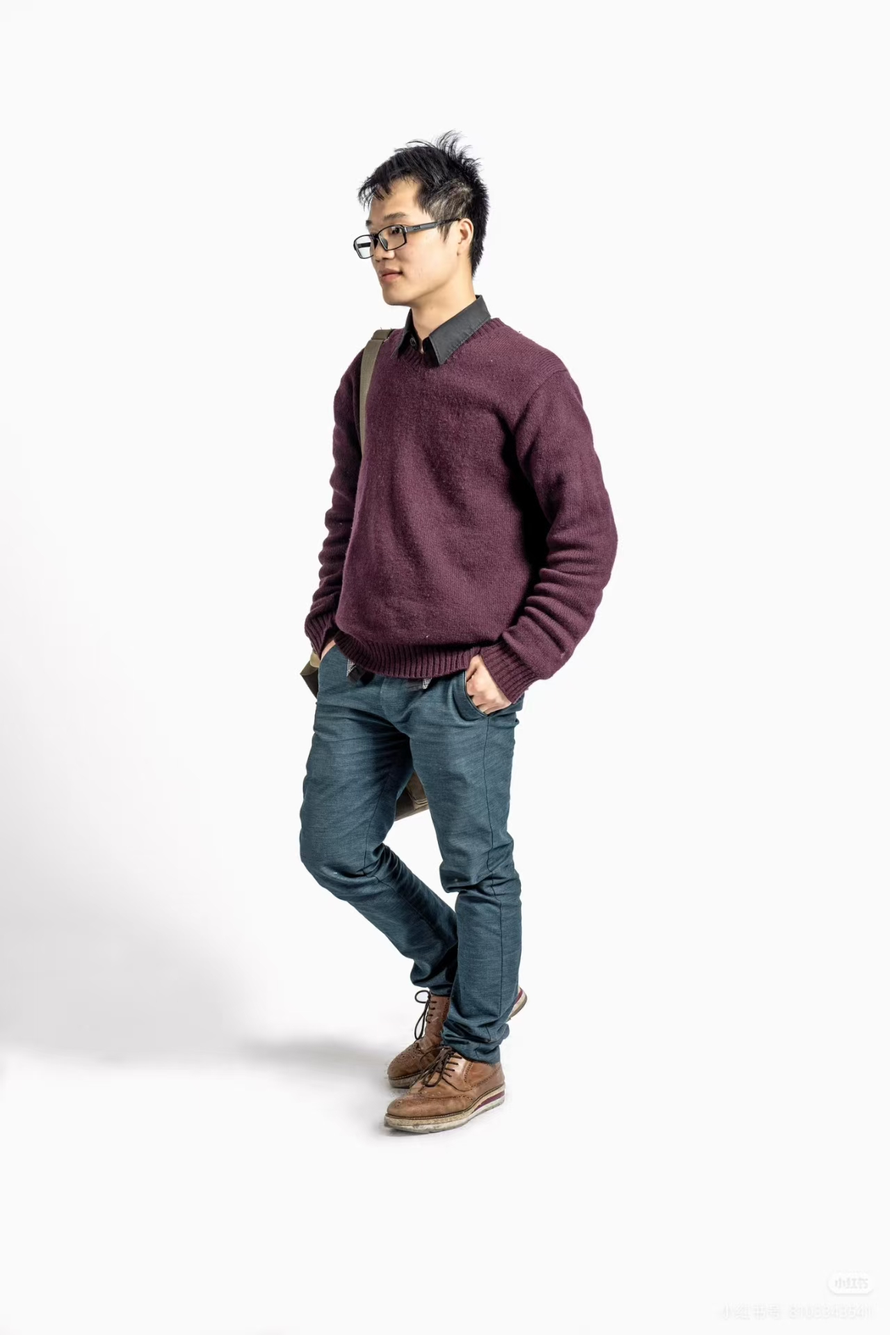up: (265, 101, 631, 1150)
